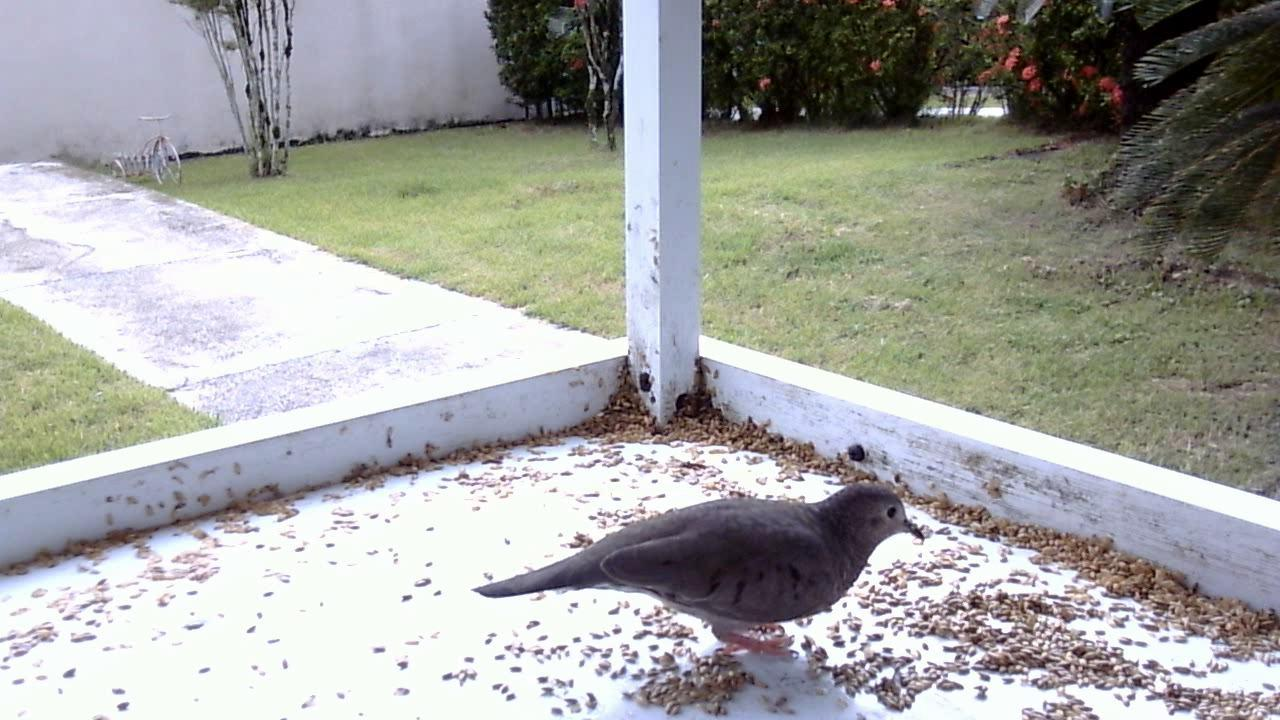rolinha: (471, 465, 935, 675)
